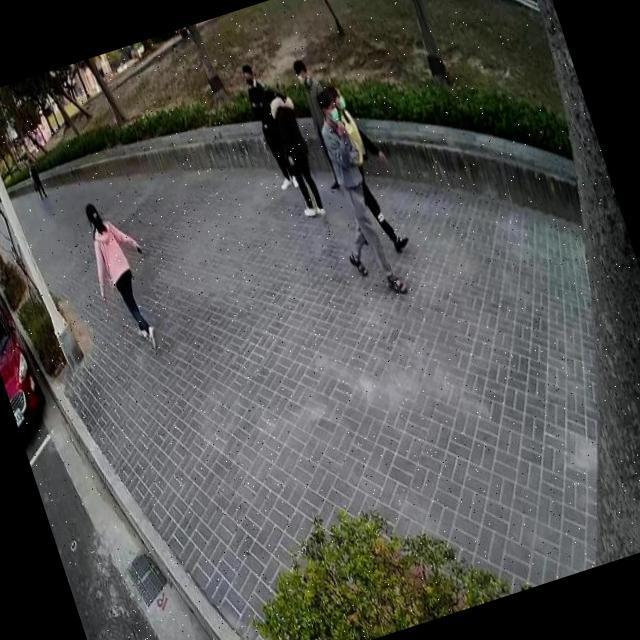person: (295, 79, 412, 307), (312, 70, 418, 264), (70, 188, 176, 362), (260, 75, 334, 224), (286, 47, 358, 195), (235, 54, 302, 195), (23, 155, 51, 204)
